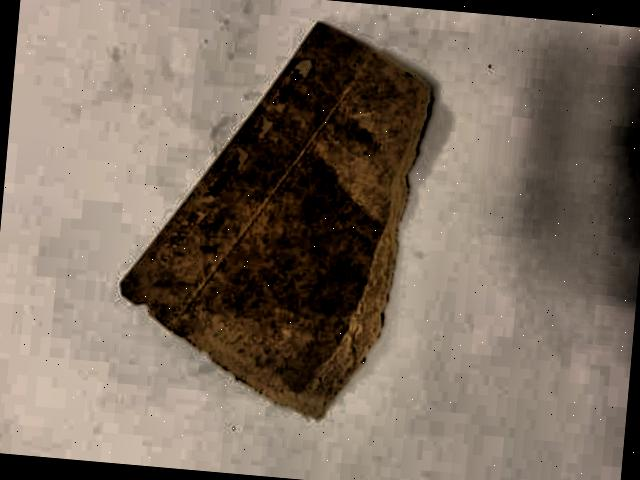Paper: (101, 0, 445, 440)
